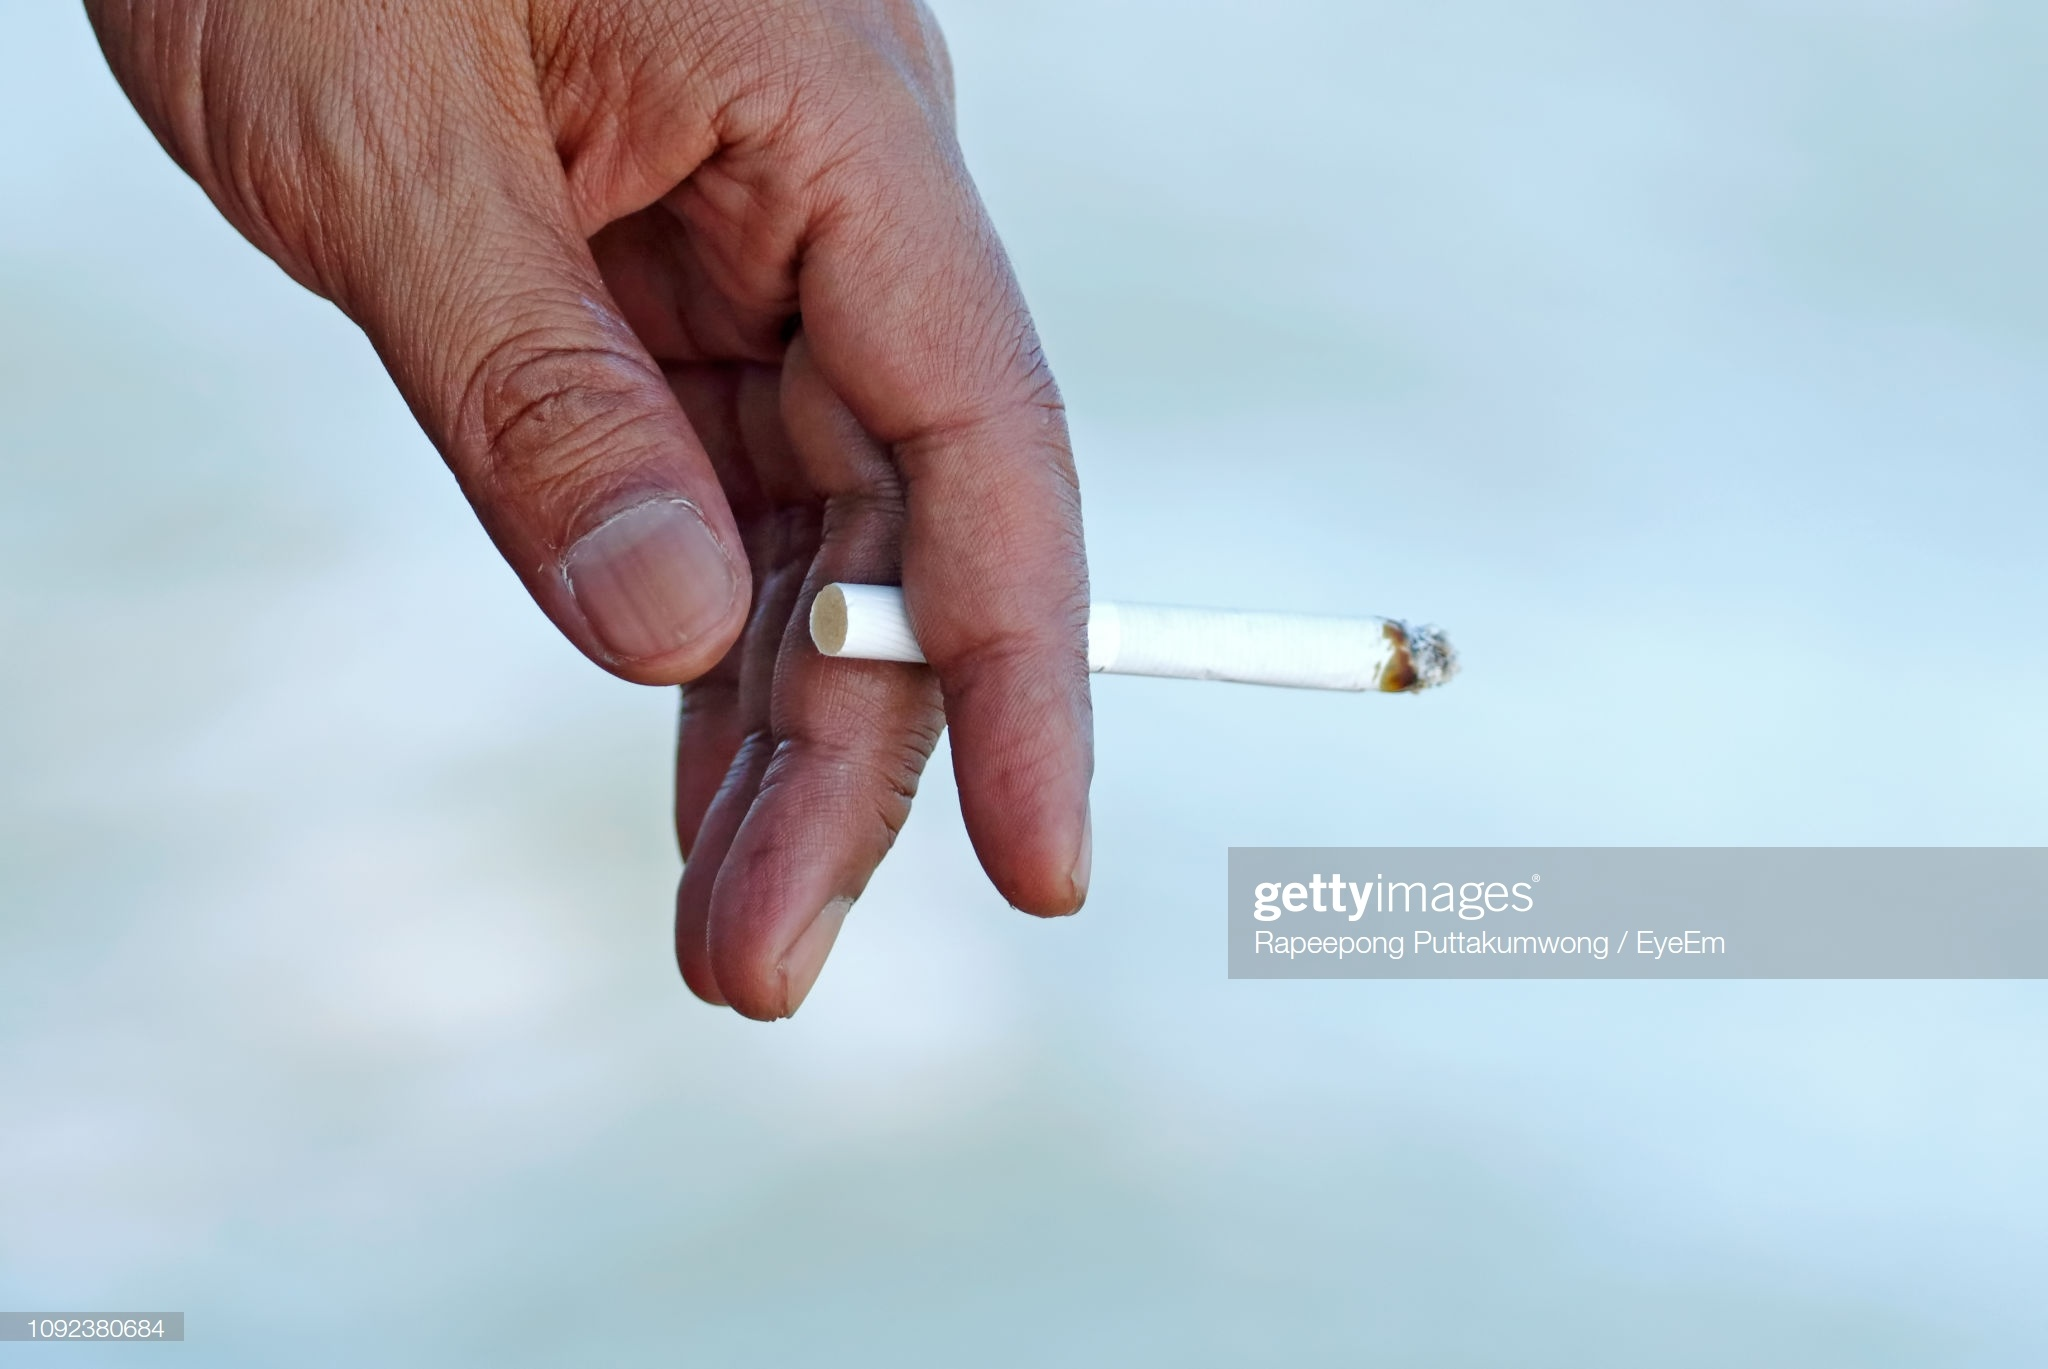sigaretta: (811, 568, 1469, 701)
